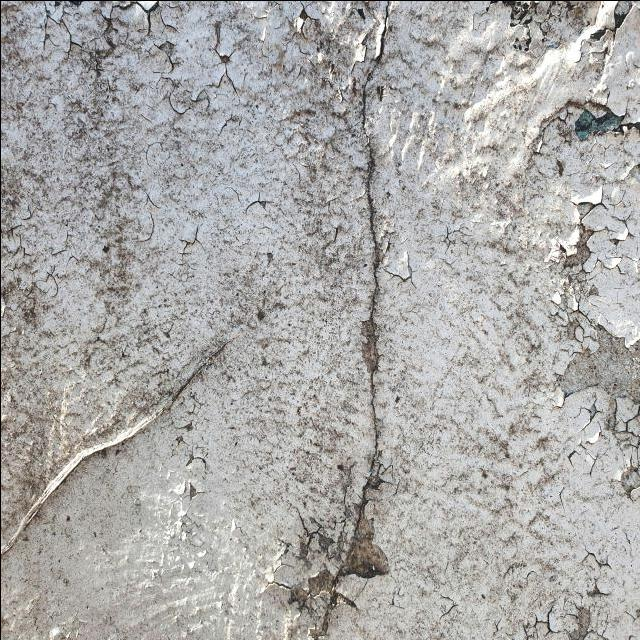SurfaceCrack: (281, 0, 437, 639)
